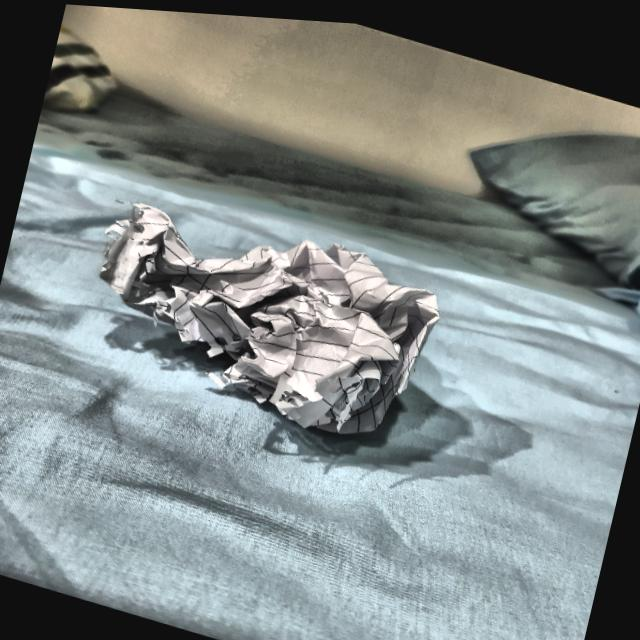Paper: (82, 181, 449, 453)
